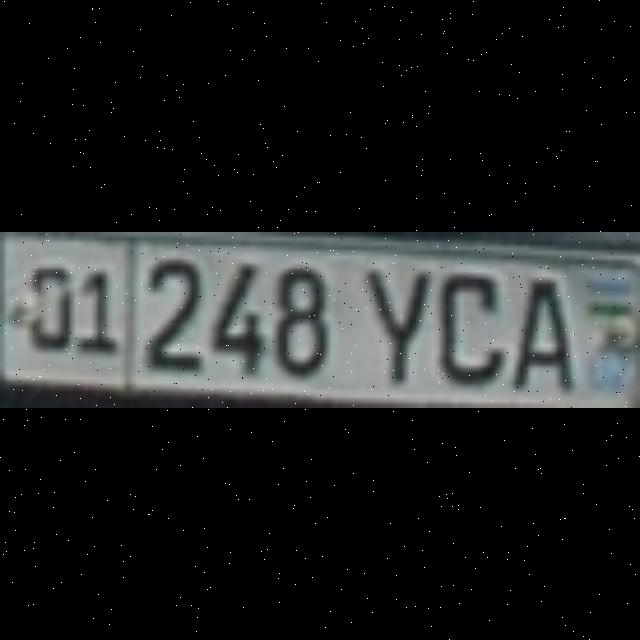0: (23, 260, 65, 344)
1: (70, 264, 106, 348)
2: (135, 250, 195, 362)
4: (204, 256, 256, 366)
8: (268, 260, 320, 370)
A: (506, 274, 566, 381)
C: (436, 268, 496, 376)
Y: (362, 264, 426, 380)
